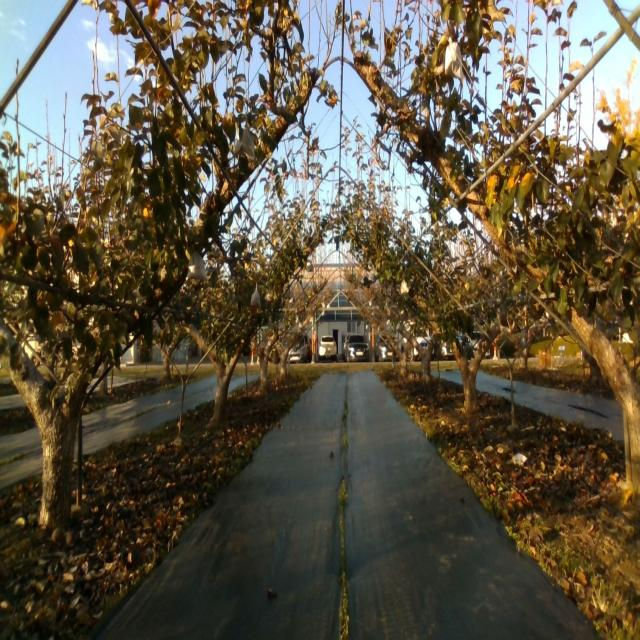pearbags: (445, 36, 465, 82), (236, 127, 258, 160), (186, 250, 207, 280), (250, 287, 262, 307)
